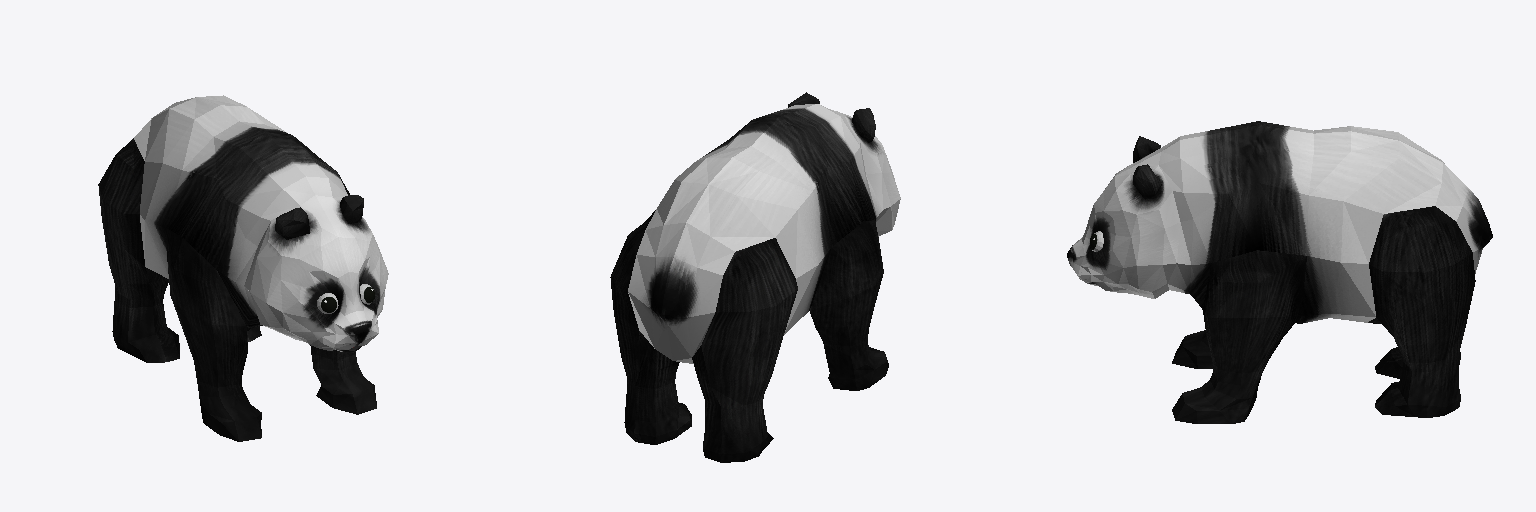
3 renders of one model, left to right at view 1: azimuth 30°, elevation 25°; view 2: azimuth 150°, elevation 25°; view 3: azimuth 270°, elevation 25°, orthographic.
Visible parts, largest first — view 1: panda, eye; view 2: panda; view 3: panda.
Boxes of the visible parts, x1=… form: panda: x1=98, y1=95, x2=388, y2=441; eye: x1=317, y1=284, x2=374, y2=313; panda: x1=610, y1=92, x2=900, y2=462; panda: x1=1067, y1=121, x2=1492, y2=423.
Size of the model in its own units: 6.79 by 9.04 by 13.35.
2 materials, 1 textured.